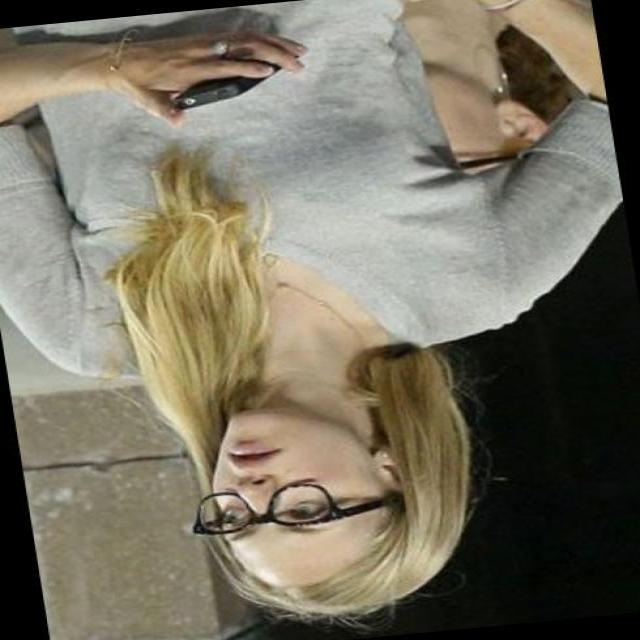glasses: (182, 473, 412, 540)
